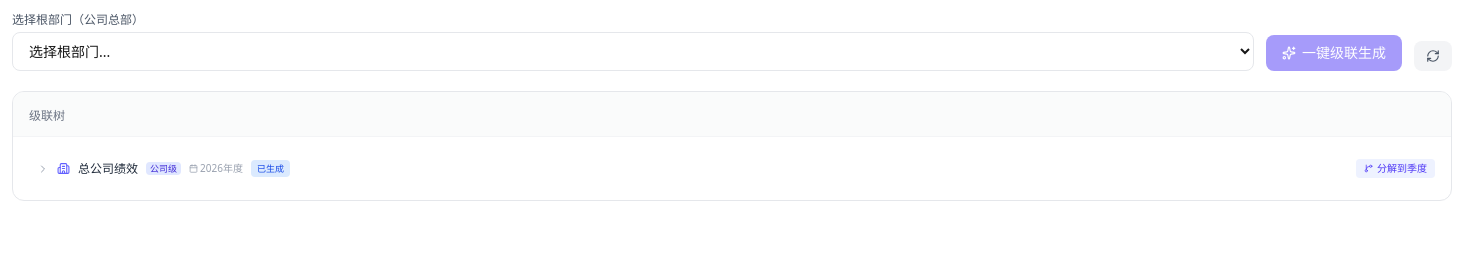
Test: CascadeTreeTab › tree rendering › shows perf_type badges
expect the text "公司级" is shown: met, box [146, 162, 181, 175]
// Children are collapsed — expand to see child badges
Click the text "总公司绩效" at (108, 168), box [78, 160, 138, 176]
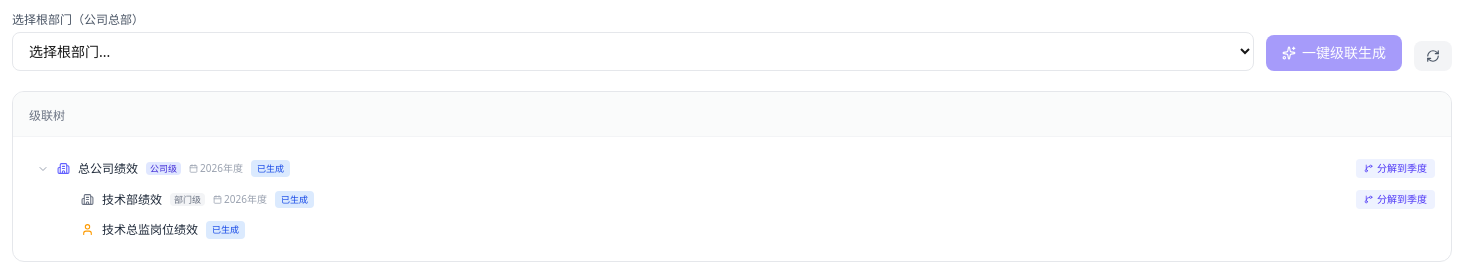
expect the text "部门级" is shown: met, box [170, 193, 205, 206]
